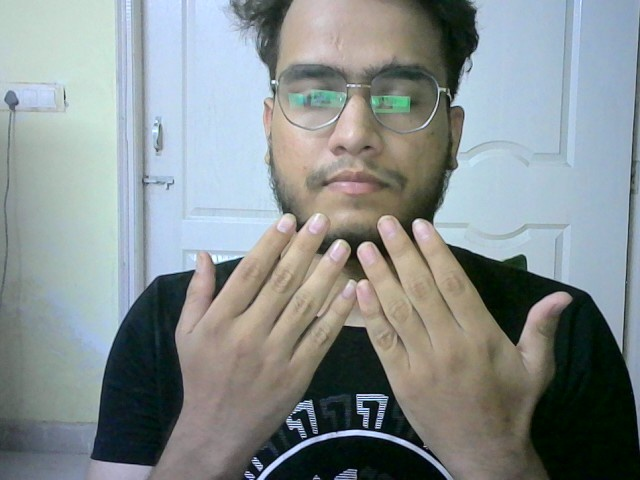Thank You: (170, 206, 572, 431)
